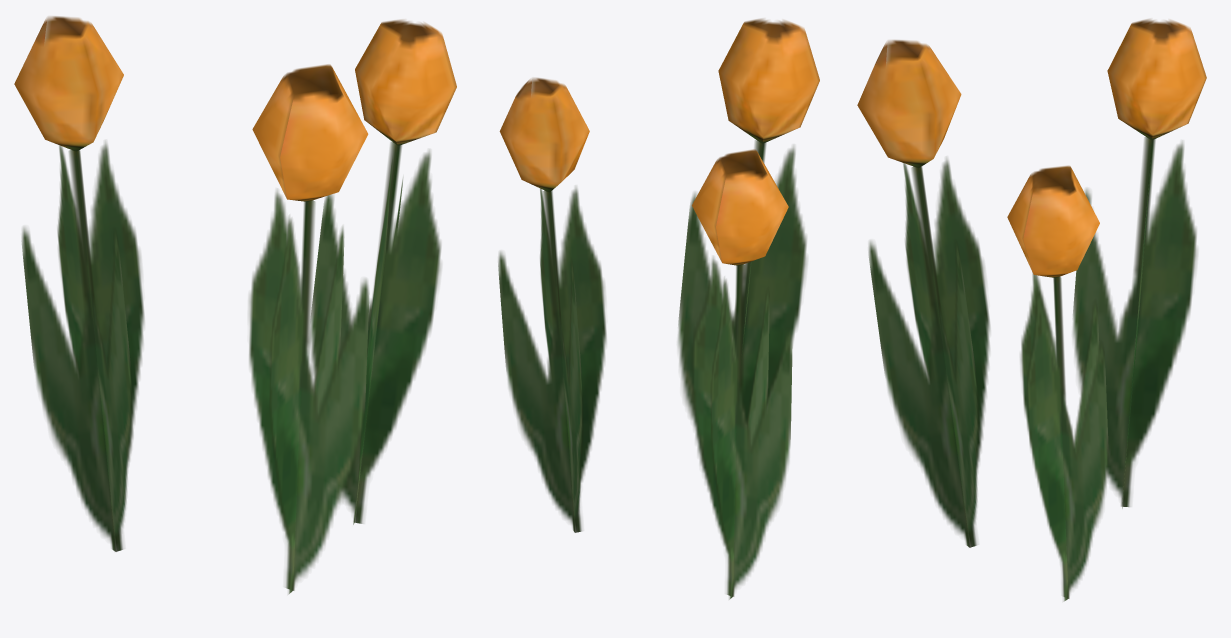
The picture shows the model from 3 angles, left to right: view 1: azimuth 30°, elevation 25°; view 2: azimuth 150°, elevation 25°; view 3: azimuth 270°, elevation 25°; orthographic projection. The views are drawn at different scales.
Visible parts, largest first — view 1: um_t1_pl021_model_t1_pl021_modelShape; view 2: um_t1_pl021_model_t1_pl021_modelShape; view 3: um_t1_pl021_model_t1_pl021_modelShape.
Boxes of the visible parts, x1,y1,x2,y2 form: um_t1_pl021_model_t1_pl021_modelShape: [14, 16, 456, 593]; um_t1_pl021_model_t1_pl021_modelShape: [498, 18, 819, 599]; um_t1_pl021_model_t1_pl021_modelShape: [857, 19, 1206, 601].
Size of the model in its own units: 0.4587 by 0.6398 by 0.4157.
1 material, 1 textured.
